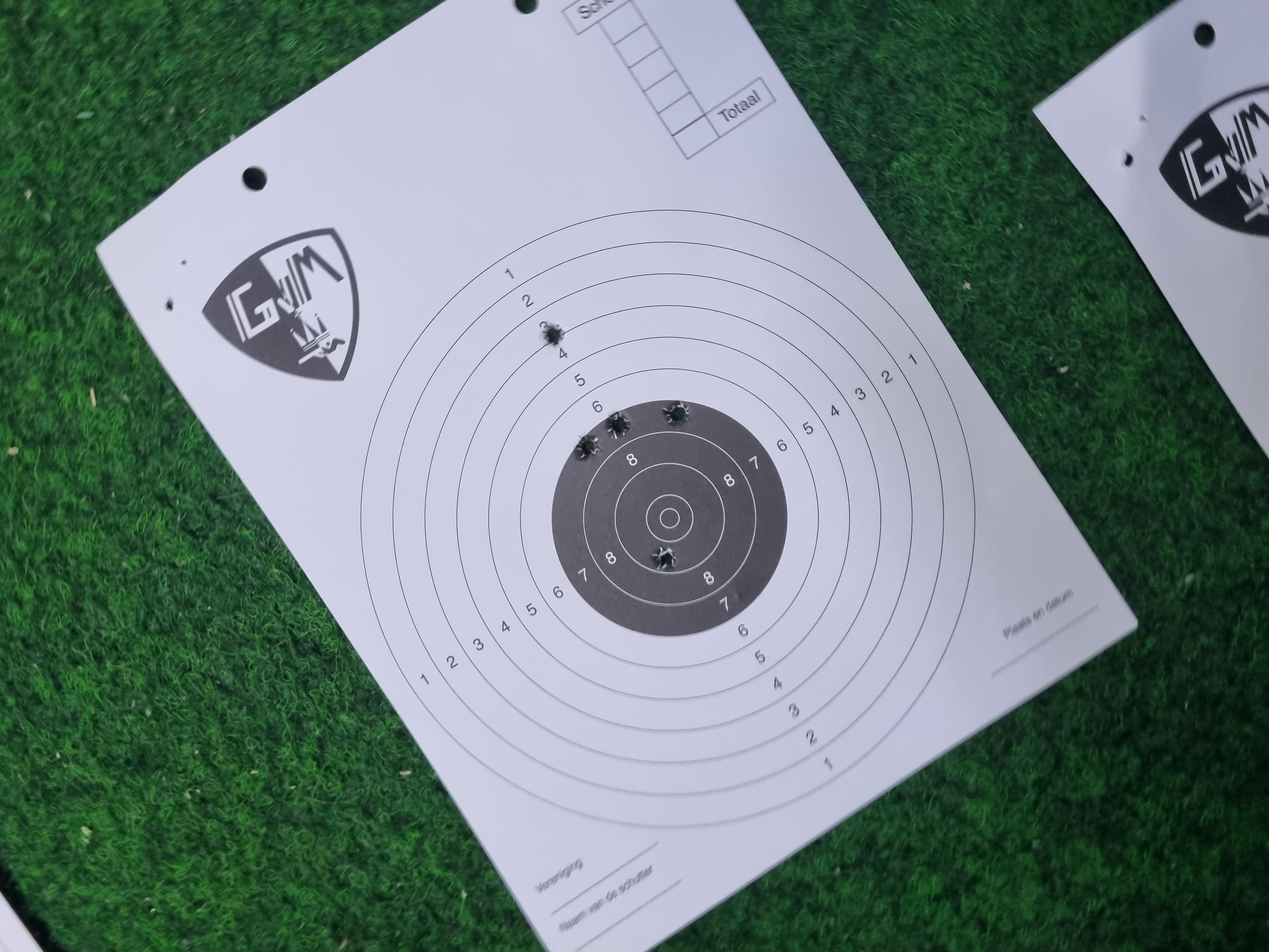hole: (700, 497, 733, 518), (656, 432, 690, 450), (507, 489, 541, 507), (684, 456, 719, 473), (805, 407, 839, 424)
